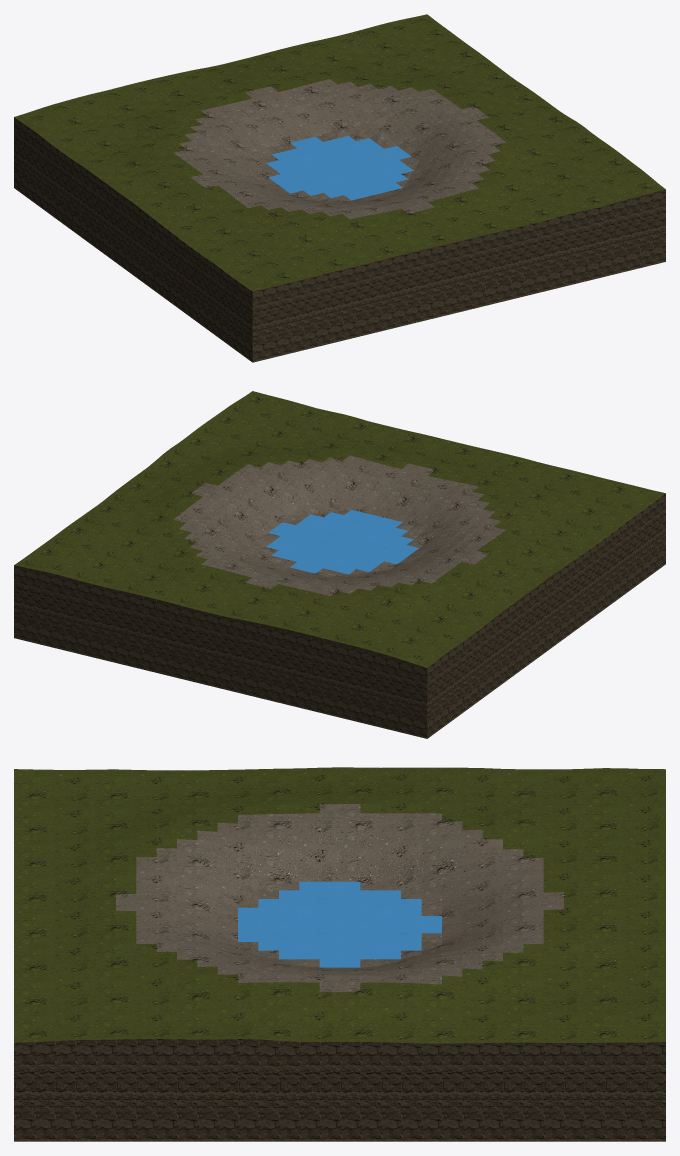
File: pond_01.glb
3 renders of one model, top to bottom at view 1: azimuth 30°, elevation 25°; view 2: azimuth 150°, elevation 25°; view 3: azimuth 270°, elevation 25°, orthographic. The views are drawn at different scales.
Parts seen in each view (by area): view 1: pond_01; view 2: pond_01; view 3: pond_01.
Part boxes in pixels (bbox=[...]): pond_01: bbox=[14, 14, 665, 362]; pond_01: bbox=[14, 391, 665, 738]; pond_01: bbox=[14, 767, 665, 1141].
Size of the model in its own units: 16 by 2.91 by 16.
4 materials, 4 textured.
